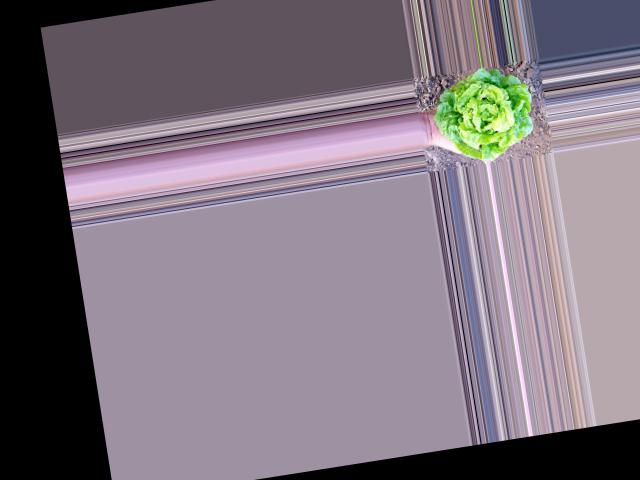lettuce: (434, 63, 541, 165)
